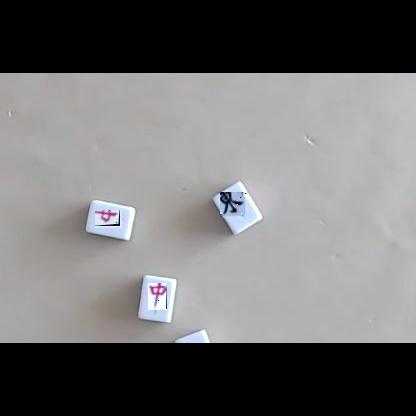1z: (221, 193, 249, 220)
7z: (96, 211, 125, 231), (148, 284, 167, 314)
